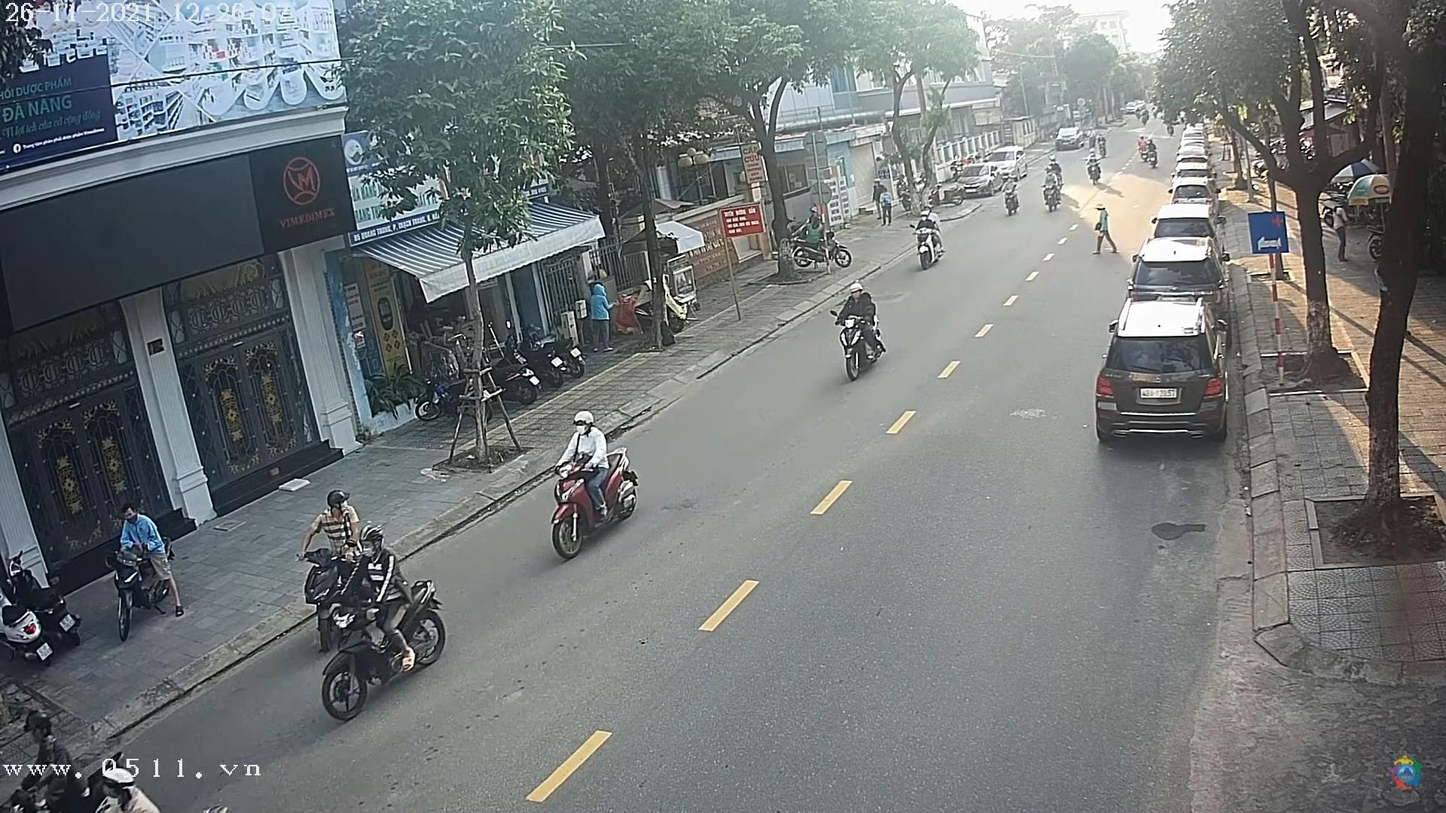motorbike: (313, 574, 453, 717), (547, 443, 641, 567), (838, 300, 889, 384), (916, 224, 947, 274)
